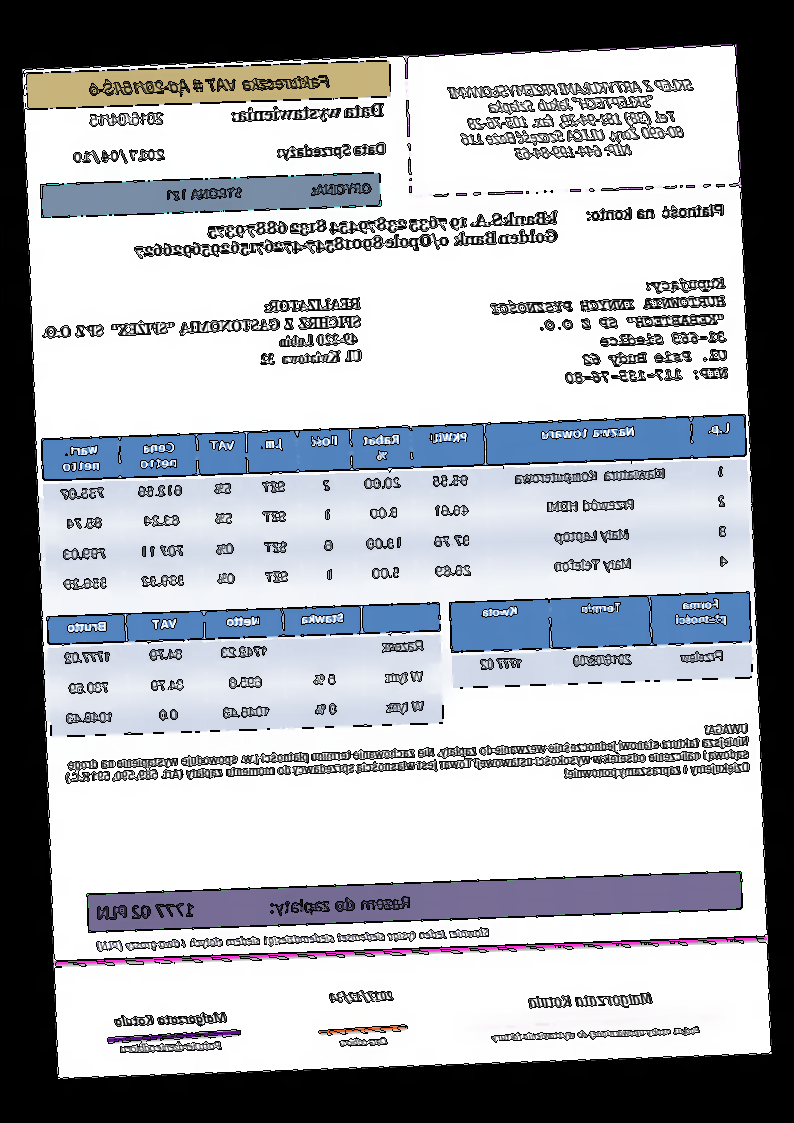Table: (40, 411, 753, 606), (46, 600, 448, 740), (448, 590, 754, 689)
TextBox: (61, 718, 753, 801), (487, 272, 734, 389), (38, 293, 367, 376), (444, 70, 700, 168), (130, 206, 563, 261), (90, 923, 493, 954), (95, 887, 416, 924), (83, 68, 335, 99), (163, 177, 374, 206), (487, 1022, 706, 1045), (227, 97, 387, 126), (582, 200, 730, 227), (524, 984, 656, 1013), (271, 137, 391, 164), (109, 1006, 233, 1030), (69, 142, 169, 168), (88, 104, 169, 132), (117, 1038, 228, 1057), (327, 986, 397, 1007), (336, 1033, 392, 1052)
